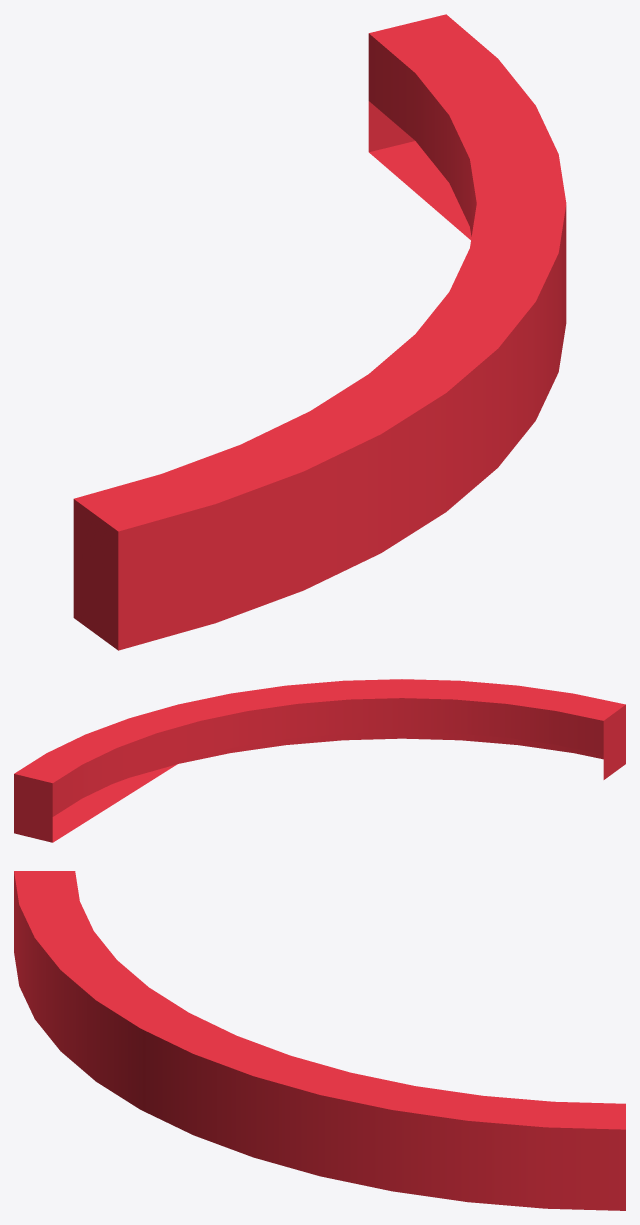
File: RoundCornerC (Wall).fbx
3 views of the same model, one above another, from view 1: azimuth 30°, elevation 25°; view 2: azimuth 150°, elevation 25°; view 3: azimuth 270°, elevation 25° (orthographic). The views are drawn at different scales.
Parts seen in each view (by area): view 1: roundCornerC001; view 2: roundCornerC001; view 3: roundCornerC001.
Boxes of the visible parts, <box> form: roundCornerC001: <box>73,14,566,650</box>; roundCornerC001: <box>14,679,625,842</box>; roundCornerC001: <box>14,871,625,1210</box>.
Size of the model in its own units: 39.37 by 5.77 by 39.37.
